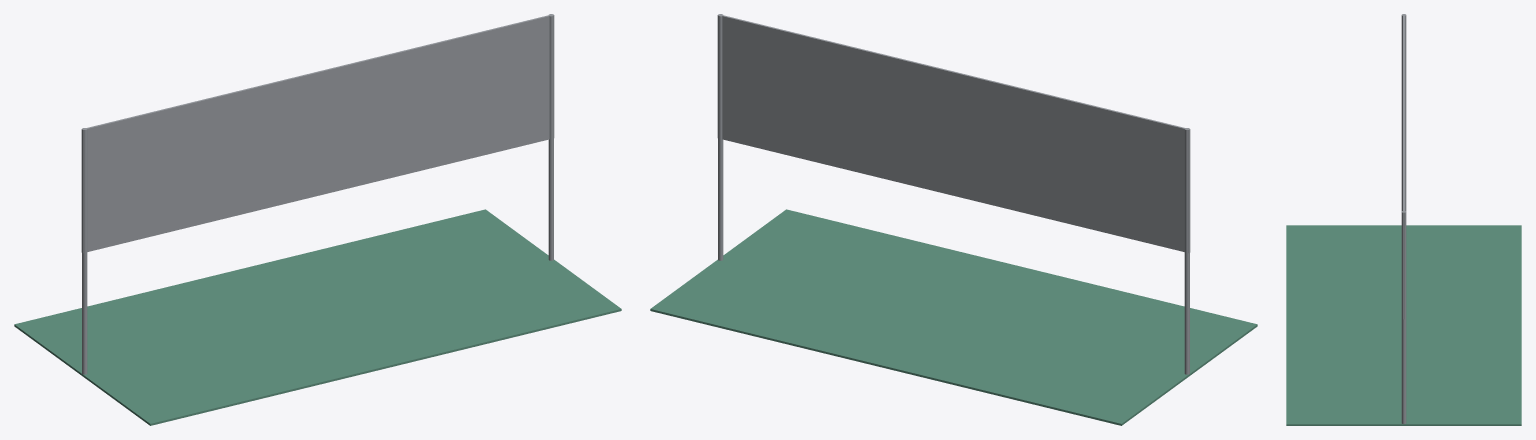
File: ball-diamond-backstop.glb
The picture shows the model from 3 angles, left to right: view 1: azimuth 30°, elevation 25°; view 2: azimuth 150°, elevation 25°; view 3: azimuth 270°, elevation 25°; orthographic projection. The views are drawn at different scales.
Parts seen in each view (by area): view 1: ball-diamond-backstop-0, ball-diamond-backstop-1; view 2: ball-diamond-backstop-0, ball-diamond-backstop-1; view 3: ball-diamond-backstop-0, ball-diamond-backstop-1.
Part boxes in pixels (box(x1,y1,x2,y2)): ball-diamond-backstop-0: box(14, 209, 621, 425); ball-diamond-backstop-1: box(81, 14, 554, 374); ball-diamond-backstop-0: box(650, 209, 1257, 425); ball-diamond-backstop-1: box(717, 14, 1190, 374); ball-diamond-backstop-0: box(1286, 225, 1521, 425); ball-diamond-backstop-1: box(1401, 14, 1406, 423).
Bounding box in the file's own units: 12 × 6 × 6.
